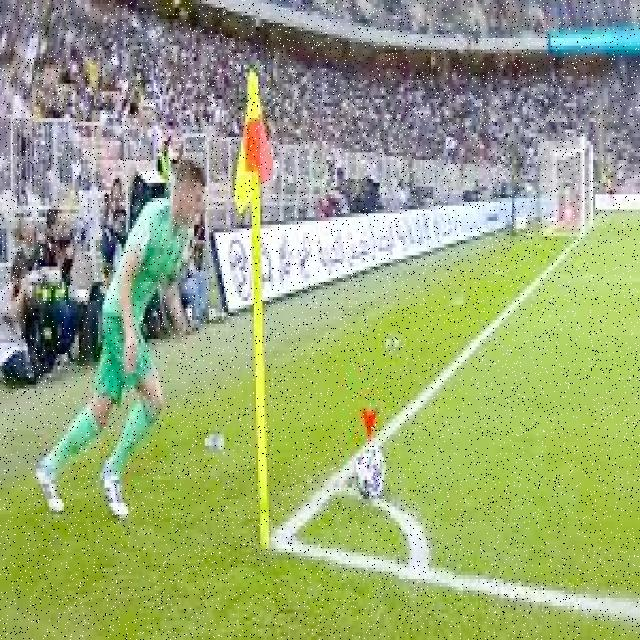corner-kick: (226, 72, 432, 591)
